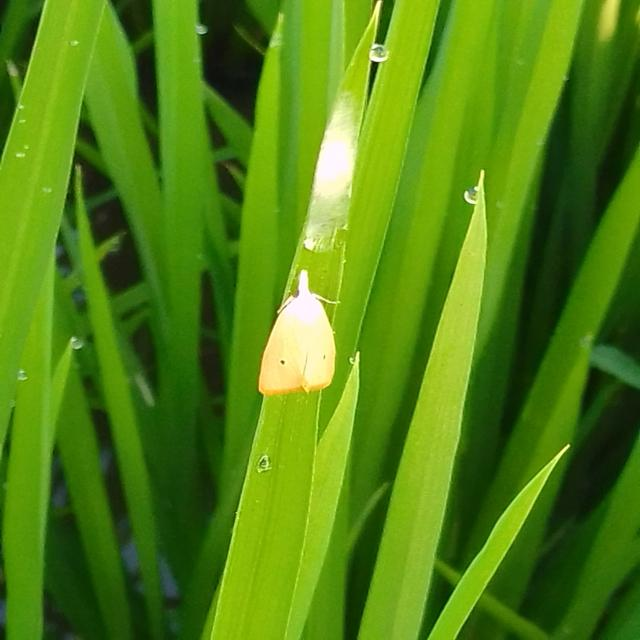Narrow brown: (250, 214, 370, 442)
